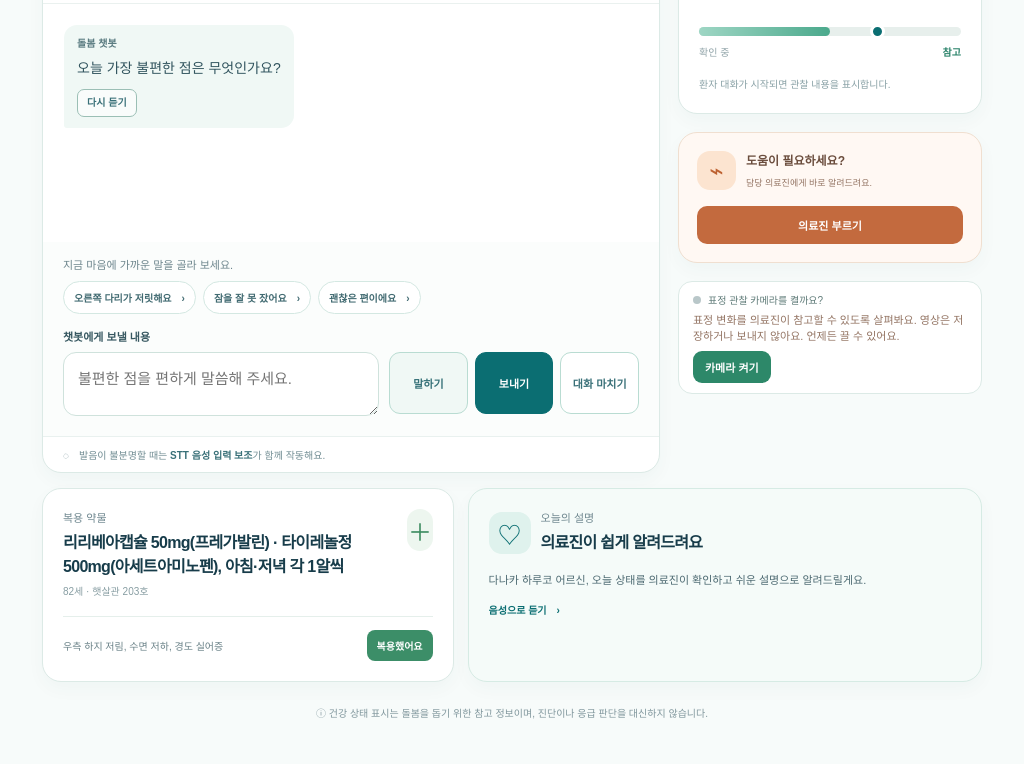
PatientChat › shows safety guidance for SAFETY_HOLD or continue
(page scrolled)
In the text box labelled "챗봇에게 보낼 내용": point(221, 384) [63,352,379,416], type "숨쉬기 어려워요."
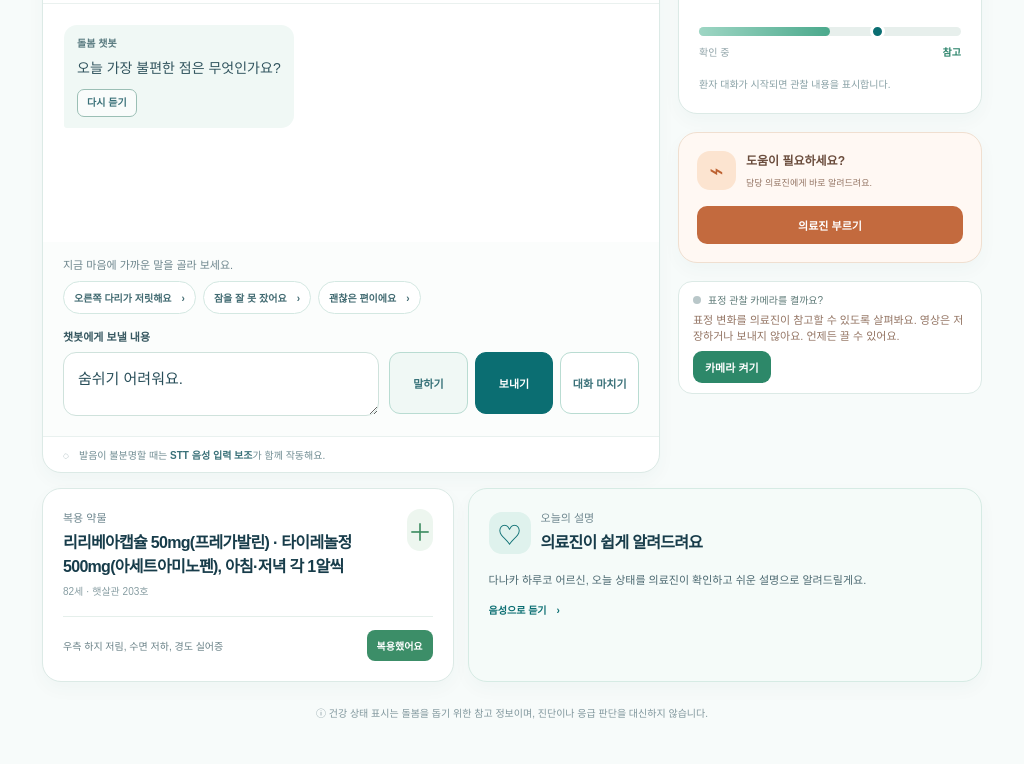
Click the button "보내기": point(514, 383) [475,352,553,414]
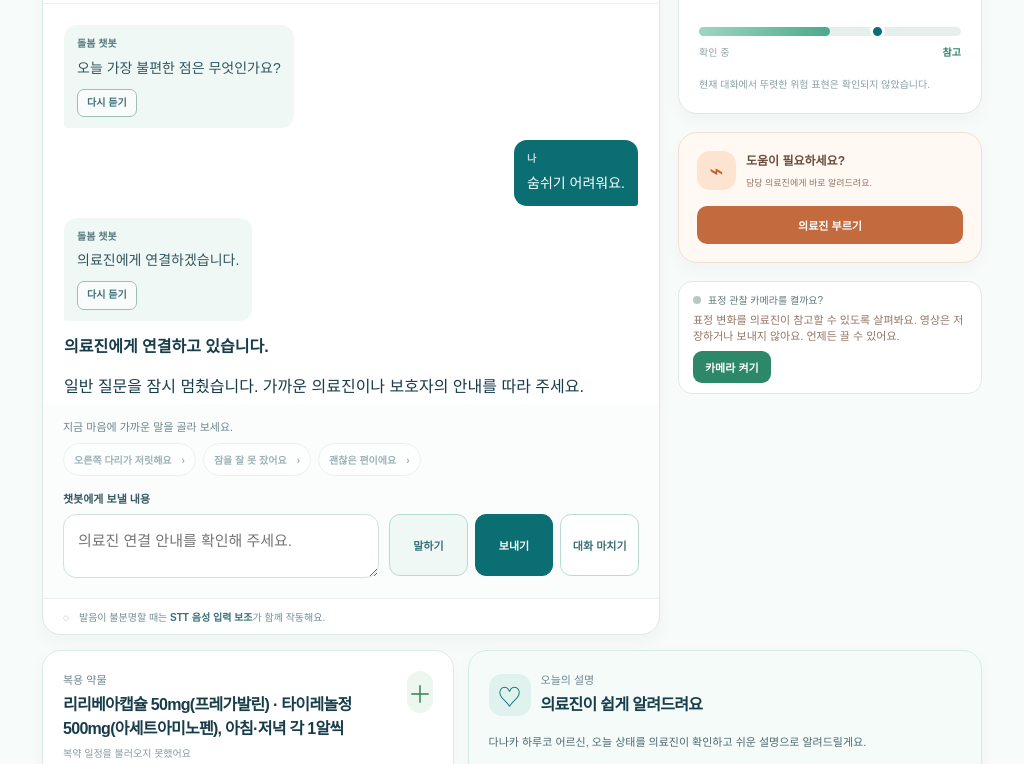
expect the message "의료진에게 연결하고 있습니다. 일반 질문을 잠시 멈췄습니다. 가까운 의료진이나 보호자의 안내를 따라 주세요." is shown: met, box [64,333,638,397]
expect the button "보내기" is disabled: met, box [475,514,553,576]
